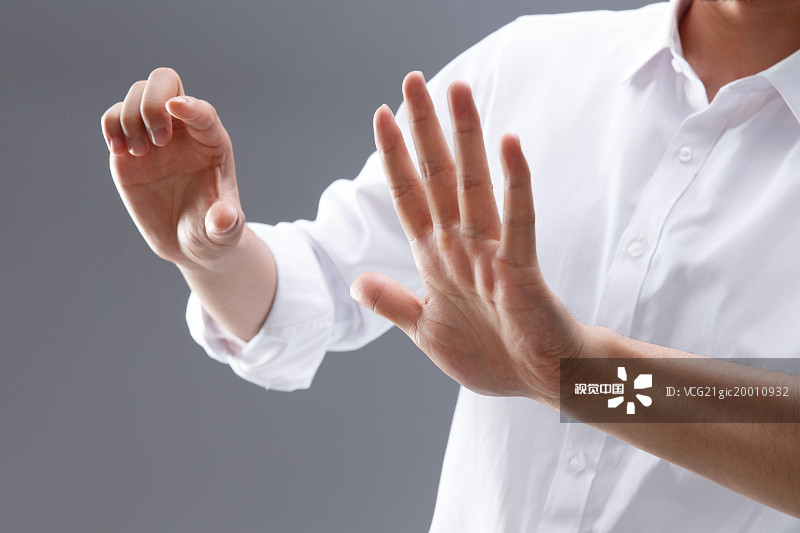no-phone: (340, 47, 571, 416), (72, 50, 267, 267)
